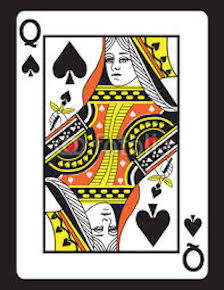QueenOfSpades: (12, 8, 211, 283)
